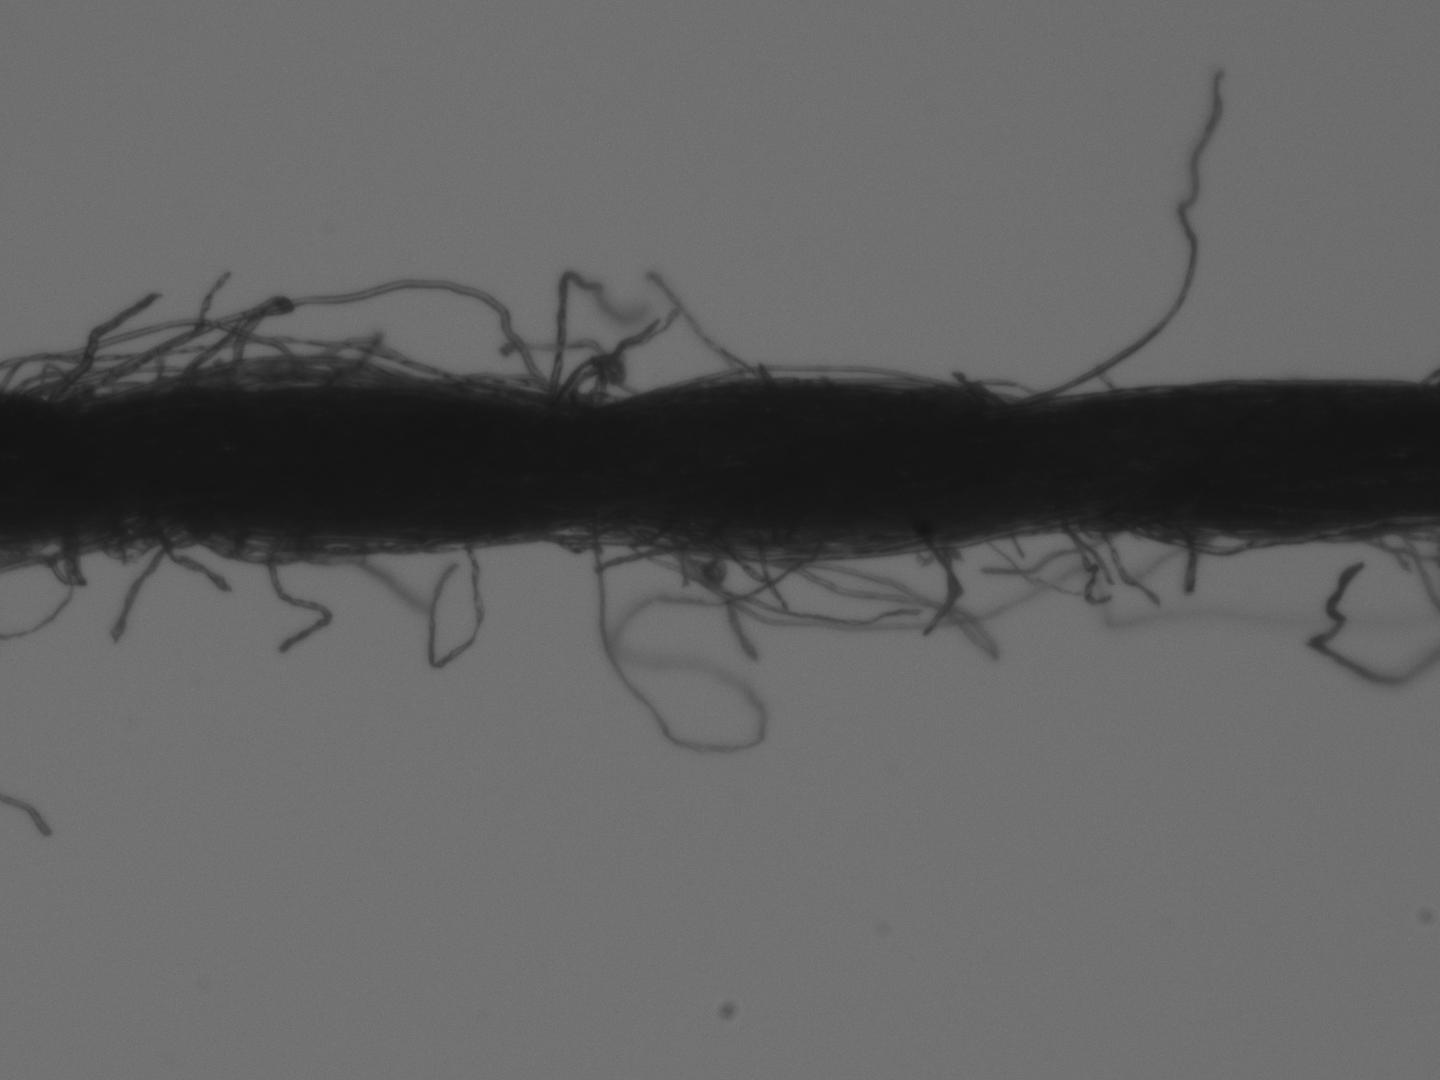loop_fiber: (6, 270, 568, 420), (519, 498, 835, 760), (1130, 526, 1250, 558), (557, 354, 630, 404), (197, 534, 321, 562), (99, 521, 159, 563)
protruding_fiber: (1008, 51, 1237, 417), (110, 542, 163, 640)
